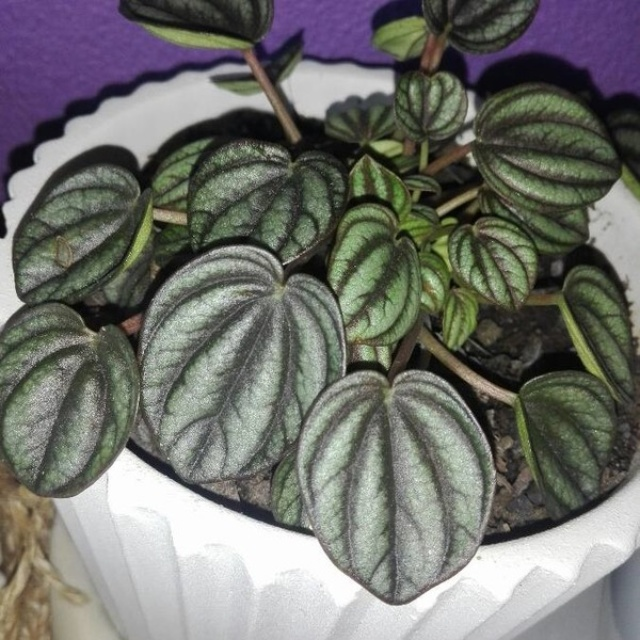obstacle: (13, 27, 630, 623)
